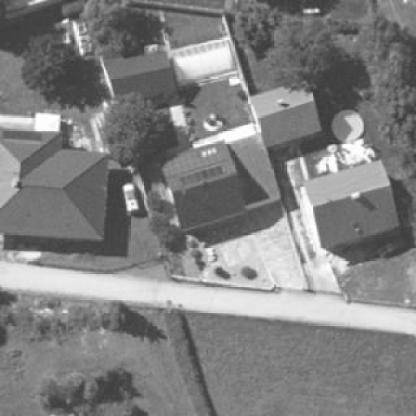solar-pv-panel: (179, 165, 225, 187), (3, 130, 42, 143)
